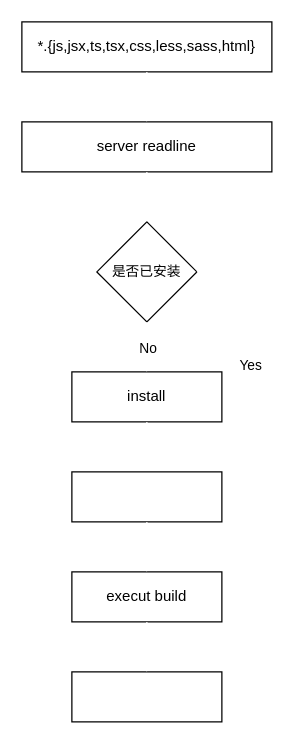
This 294x744 diagram has some shape labels left out. The shapes that lost their labels are listed below. From the top down, each one's centre as x and y in pixels, then its label:
the point at 146,496: write to src dir
the point at 146,696: dist http-server
